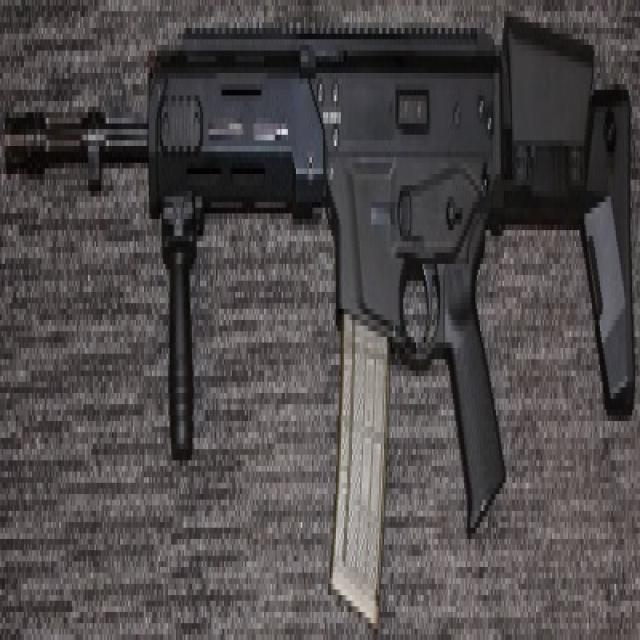rifle: (1, 6, 640, 640)
